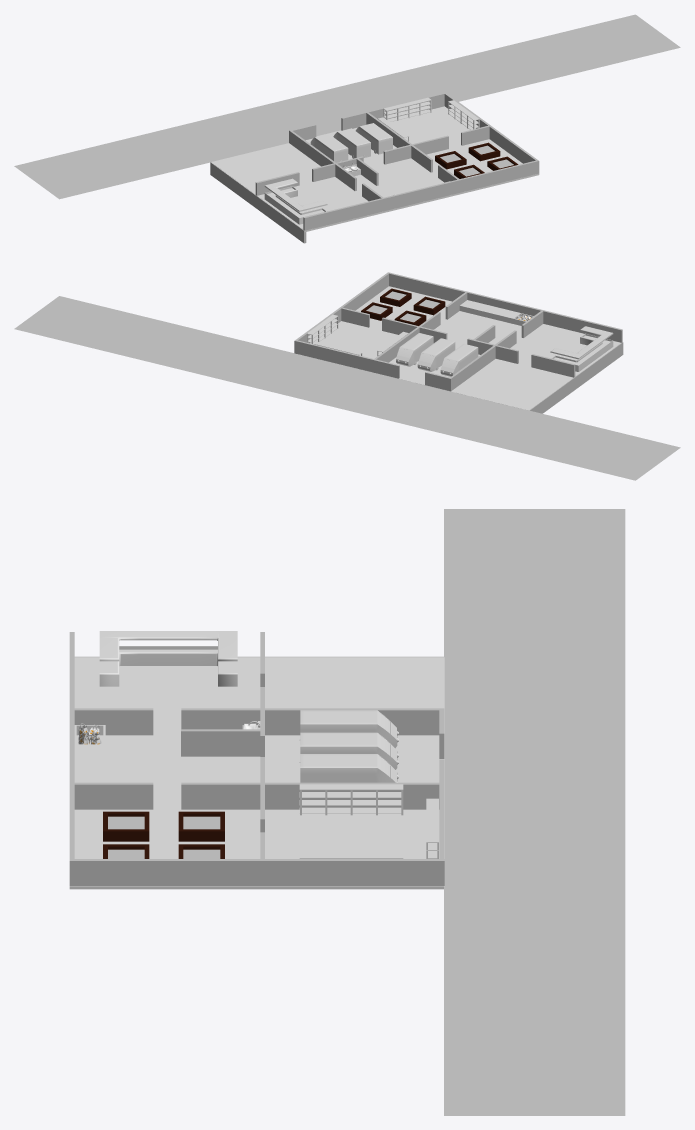
File: kolonial_level.FBX
3 views of the same model, one above another, from view 1: azimuth 30°, elevation 25°; view 2: azimuth 150°, elevation 25°; view 3: azimuth 270°, elevation 25° (orthographic). The views are drawn at different scales.
Visible parts, largest first — view 1: Box044, Plane011, Plane014, Plane013, Plane010, Plane009, Plane012, Box003, Plane006, Plane008, Box004, Box052 (+14 smaller); view 2: Box044, Plane012, Plane011, Plane008, Plane014, Plane009, Plane013, Plane006, Plane010, Box003, Box004, Box052 (+17 smaller); view 3: Box044, Plane009, Plane011, Plane012, Plane014, Plane008, Plane010, Plane013, Plane006, Box002, Box006, Box007 (+13 smaller).
Part boxes in pixels (x1=…): Box044: x1=211, y1=106, x2=539, y2=232; Plane011: x1=555, y1=14, x2=680, y2=67; Plane014: x1=14, y1=147, x2=136, y2=199; Plane013: x1=92, y1=128, x2=214, y2=180; Plane010: x1=479, y1=34, x2=601, y2=85; Plane009: x1=170, y1=109, x2=288, y2=160; Plane012: x1=401, y1=52, x2=527, y2=101; Box003: x1=303, y1=160, x2=539, y2=230; Plane006: x1=246, y1=91, x2=353, y2=142; Plane008: x1=321, y1=72, x2=432, y2=115; Box004: x1=255, y1=125, x2=490, y2=195; Box052: x1=211, y1=162, x2=306, y2=243; Box044: x1=297, y1=286, x2=620, y2=410; Plane012: x1=167, y1=333, x2=293, y2=386; Plane011: x1=14, y1=296, x2=140, y2=348; Plane008: x1=249, y1=353, x2=375, y2=405; Plane014: x1=558, y1=428, x2=680, y2=480; Plane009: x1=402, y1=391, x2=527, y2=443; Plane013: x1=480, y1=409, x2=602, y2=461; Plane006: x1=328, y1=372, x2=450, y2=424; Plane010: x1=96, y1=315, x2=215, y2=366; Box003: x1=387, y1=272, x2=622, y2=342; Box004: x1=341, y1=307, x2=575, y2=377; Box052: x1=530, y1=342, x2=623, y2=413; Box044: x1=69, y1=657, x2=444, y2=889; Plane009: x1=444, y1=657, x2=625, y2=737; Plane011: x1=444, y1=1035, x2=625, y2=1115; Plane012: x1=444, y1=886, x2=625, y2=966; Plane014: x1=444, y1=509, x2=625, y2=589; Plane008: x1=444, y1=809, x2=625, y2=886; Plane010: x1=444, y1=962, x2=625, y2=1038; Plane013: x1=444, y1=585, x2=625, y2=661; Plane006: x1=444, y1=733, x2=625, y2=809; Box002: x1=69, y1=859, x2=444, y2=885; Box006: x1=69, y1=782, x2=264, y2=809; Box007: x1=70, y1=708, x2=264, y2=735.
Size of the model in its own units: 6097 by 267 by 2360.
